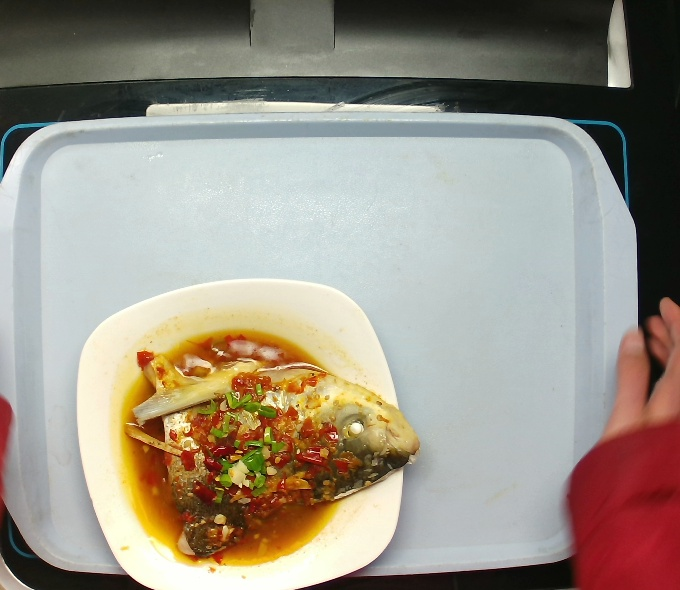wcq-DuoJiaoYuTou: (115, 336, 430, 560)
